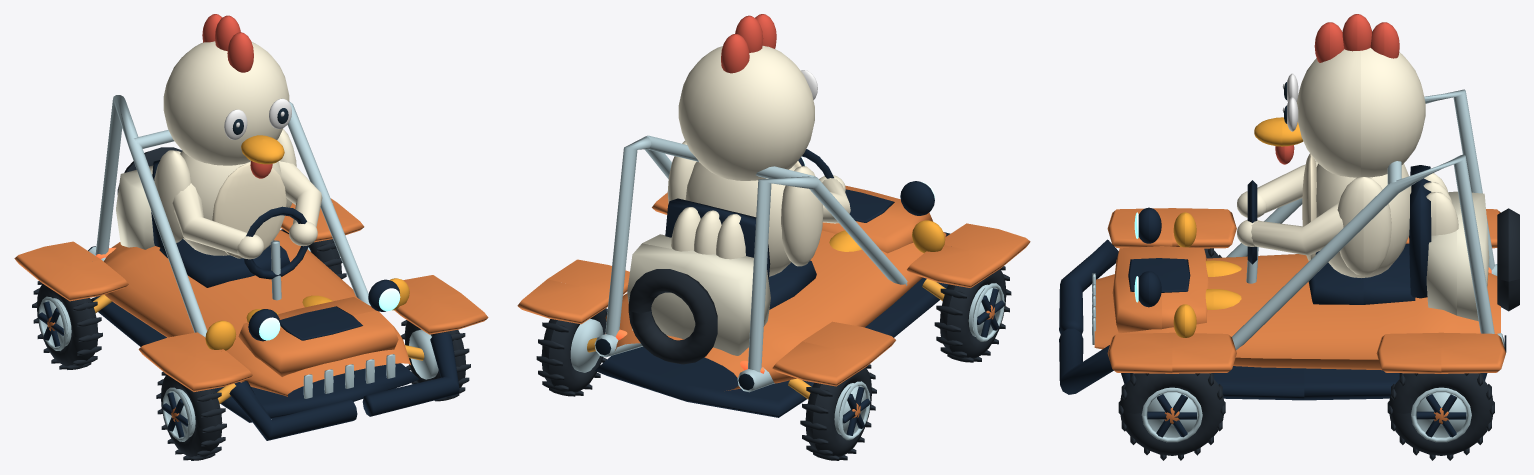
The model's file is kart_ayam.glb.
3 views of the same model, side by side, from view 1: azimuth 30°, elevation 25°; view 2: azimuth 150°, elevation 25°; view 3: azimuth 270°, elevation 25° (orthographic). The views are drawn at different scales.
Visible parts, largest first — view 1: chassis_enamel_bear, driver_fur_chicken, chassis_graphite, chassis_brushed_alloy, driver_cream, wheel_rl_spin_rubber, wheel_fl_spin_rubber, chassis_pearl_ivory, driver_comb, driver_beak, wheel_fr_spin_rubber, chassis_beak (+9 smaller); view 2: chassis_enamel_bear, driver_fur_chicken, chassis_graphite, chassis_brushed_alloy, chassis_pearl_ivory, chassis_rubber, wheel_rl_spin_rubber, wheel_fl_spin_rubber, wheel_rr_spin_rubber, driver_comb, wheel_rr_spin_brushed_alloy, wheel_fl_spin_brushed_alloy (+5 smaller); view 3: chassis_enamel_bear, driver_fur_chicken, chassis_graphite, chassis_brushed_alloy, wheel_fr_spin_rubber, wheel_rr_spin_rubber, chassis_pearl_ivory, driver_comb, chassis_rubber, driver_beak, wheel_rr_spin_brushed_alloy, wheel_fr_spin_brushed_alloy (+5 smaller).
Boxes of the visible parts, bbox=[...] form: chassis_enamel_bear: bbox=[14, 198, 488, 396]; driver_fur_chicken: bbox=[154, 41, 322, 259]; chassis_graphite: bbox=[91, 160, 459, 440]; chassis_brushed_alloy: bbox=[89, 95, 395, 398]; driver_cream: bbox=[212, 162, 286, 258]; wheel_rl_spin_rubber: bbox=[32, 281, 102, 369]; wheel_fl_spin_rubber: bbox=[156, 372, 226, 460]; chassis_pearl_ivory: bbox=[116, 165, 154, 249]; driver_comb: bbox=[202, 14, 272, 178]; driver_beak: bbox=[241, 135, 333, 322]; wheel_fr_spin_rubber: bbox=[401, 320, 470, 401]; chassis_beak: bbox=[205, 278, 409, 350]; chassis_enamel_bear: bbox=[517, 185, 1030, 390]; driver_fur_chicken: bbox=[667, 46, 850, 276]; chassis_graphite: bbox=[595, 149, 950, 417]; chassis_brushed_alloy: bbox=[594, 135, 907, 392]; chassis_pearl_ivory: bbox=[627, 234, 770, 355]; chassis_rubber: bbox=[628, 269, 717, 364]; wheel_rl_spin_rubber: bbox=[800, 364, 876, 460]; wheel_fl_spin_rubber: bbox=[934, 266, 1011, 362]; wheel_rr_spin_rubber: bbox=[536, 308, 607, 396]; driver_comb: bbox=[721, 14, 776, 73]; wheel_rr_spin_brushed_alloy: bbox=[570, 318, 603, 372]; wheel_fl_spin_brushed_alloy: bbox=[968, 283, 1004, 341]; chassis_enamel_bear: bbox=[1094, 208, 1505, 373]; driver_fur_chicken: bbox=[1237, 48, 1458, 277]; chassis_graphite: bbox=[1059, 165, 1487, 400]; chassis_brushed_alloy: bbox=[1092, 89, 1504, 350]; wheel_fr_spin_rubber: bbox=[1118, 373, 1225, 460]; wheel_rr_spin_rubber: bbox=[1387, 373, 1494, 460]; chassis_pearl_ivory: bbox=[1426, 191, 1489, 321]; driver_comb: bbox=[1275, 14, 1399, 164]; chassis_rubber: bbox=[1497, 208, 1519, 311]; driver_beak: bbox=[1205, 117, 1303, 309]; wheel_rr_spin_brushed_alloy: bbox=[1411, 387, 1471, 442]; wheel_fr_spin_brushed_alloy: bbox=[1141, 387, 1202, 442].
Bounding box in the file's own units: 1.45 × 1.61 × 1.78.
